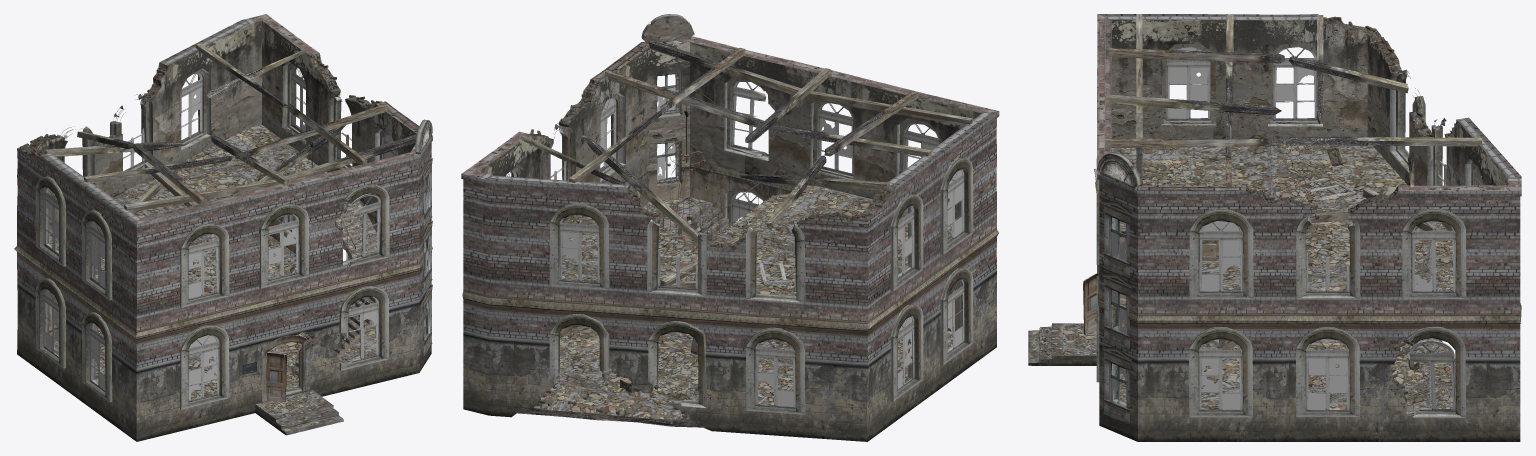
Rendered from Building_City1_2_02LOD_3.FBX.
The picture shows the model from 3 angles, left to right: view 1: azimuth 30°, elevation 25°; view 2: azimuth 150°, elevation 25°; view 3: azimuth 270°, elevation 25°; orthographic projection. The views are drawn at different scales.
Visible parts, largest first — view 1: Building_City1_2Lod3, Building_City1_2Door_Lod3, Building_City1_2Window02_Lod3, Building_City1_2Window01_Lod3, Building_City1_2Window05_Lod3, Building_City1_2Window04_Lod3, Building_City1_2Window03_Lod3, Building_City1_2Window12_Lod3, Building_City1_2Bricks_Lod3, Building_City1_2Window15_Lod3, Building_City1_2Window16_Lod3, Building_City1_2Window10_Lod3 (+1 smaller); view 2: Building_City1_2Lod3, Building_City1_2Window13_Lod3, Building_City1_2Window12_Lod3, Building_City1_2Bricks_Lod3, Building_City1_2Window04_Lod3, Building_City1_2Window05_Lod3, Building_City1_2Window15_Lod3, Building_City1_2Window16_Lod3, Building_City1_2Window02_Lod3, Building_City1_2Window14_Lod3; view 3: Building_City1_2Lod3, Building_City1_2Window08_Lod3, Building_City1_2Window10_Lod3, Building_City1_2Window07_Lod3, Building_City1_2Window09_Lod3, Building_City1_2Window06_Lod3, Building_City1_2Bricks_Lod3, Building_City1_2Window15_Lod3, Building_City1_2Window16_Lod3, Building_City1_2Door_Lod3, Building_City1_2Window11_Lod3.
Boxes of the visible parts, x1,y1,x2,y2 form: Building_City1_2Lod3: [14, 14, 432, 441]; Building_City1_2Door_Lod3: [262, 335, 306, 401]; Building_City1_2Window02_Lod3: [188, 234, 219, 301]; Building_City1_2Window01_Lod3: [344, 296, 379, 363]; Building_City1_2Window05_Lod3: [352, 193, 380, 260]; Building_City1_2Window04_Lod3: [268, 214, 299, 281]; Building_City1_2Window03_Lod3: [188, 335, 219, 403]; Building_City1_2Window12_Lod3: [181, 73, 202, 143]; Building_City1_2Bricks_Lod3: [20, 56, 381, 385]; Building_City1_2Window15_Lod3: [43, 187, 58, 256]; Building_City1_2Window16_Lod3: [89, 221, 105, 290]; Building_City1_2Window10_Lod3: [291, 66, 305, 132]; Building_City1_2Lod3: [461, 14, 999, 441]; Building_City1_2Window13_Lod3: [755, 340, 795, 409]; Building_City1_2Window12_Lod3: [559, 215, 599, 284]; Building_City1_2Bricks_Lod3: [530, 83, 890, 417]; Building_City1_2Window04_Lod3: [818, 102, 853, 176]; Building_City1_2Window05_Lod3: [730, 81, 766, 152]; Building_City1_2Window15_Lod3: [898, 205, 914, 280]; Building_City1_2Window16_Lod3: [947, 169, 964, 244]; Building_City1_2Window02_Lod3: [904, 123, 939, 169]; Building_City1_2Window14_Lod3: [657, 250, 697, 291]; Building_City1_2Lod3: [1028, 14, 1521, 441]; Building_City1_2Window08_Lod3: [1305, 340, 1349, 412]; Building_City1_2Window10_Lod3: [1412, 222, 1456, 293]; Building_City1_2Window07_Lod3: [1198, 340, 1242, 412]; Building_City1_2Window09_Lod3: [1409, 340, 1455, 412]; Building_City1_2Window06_Lod3: [1199, 222, 1243, 293]; Building_City1_2Bricks_Lod3: [1249, 16, 1452, 393]; Building_City1_2Window15_Lod3: [1272, 48, 1317, 121]; Building_City1_2Window16_Lod3: [1166, 47, 1210, 121]; Building_City1_2Door_Lod3: [1083, 273, 1098, 334]; Building_City1_2Window11_Lod3: [1305, 252, 1350, 293].
Bounding box in the file's own units: 1562 × 1794 × 1118.
